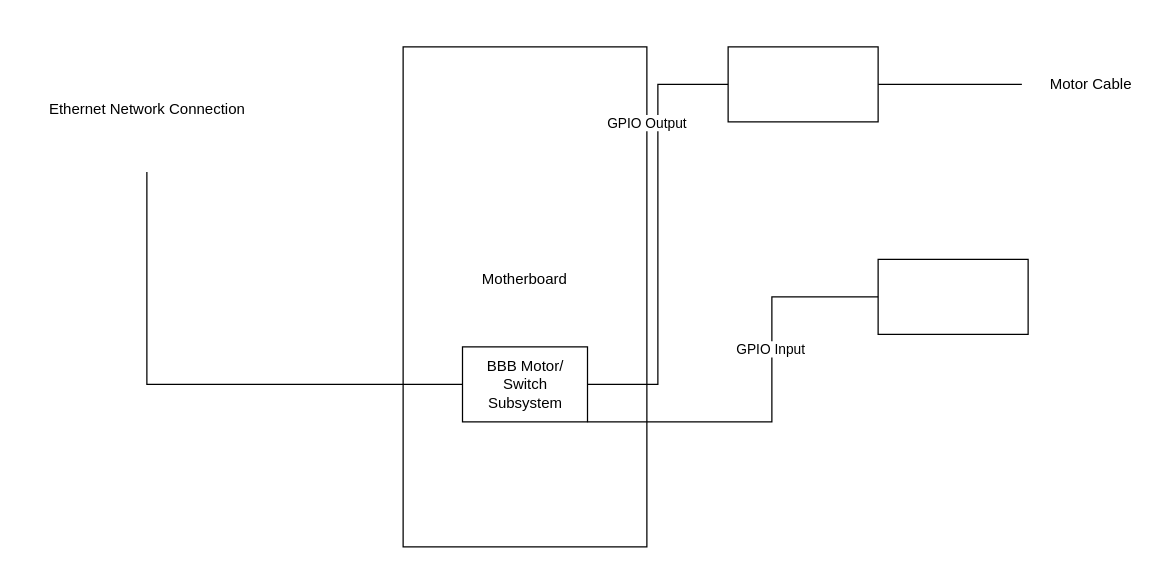
Some shapes in this 1174 by 569 pixel diagram are drawn without their labels. The shapes that lost their labels are listed below. From the top down, each one's centre as x and y in pixels, then its label:
At point 802,84: "Motor Interface Circuit".
At point 952,296: "On/Off Switch".
